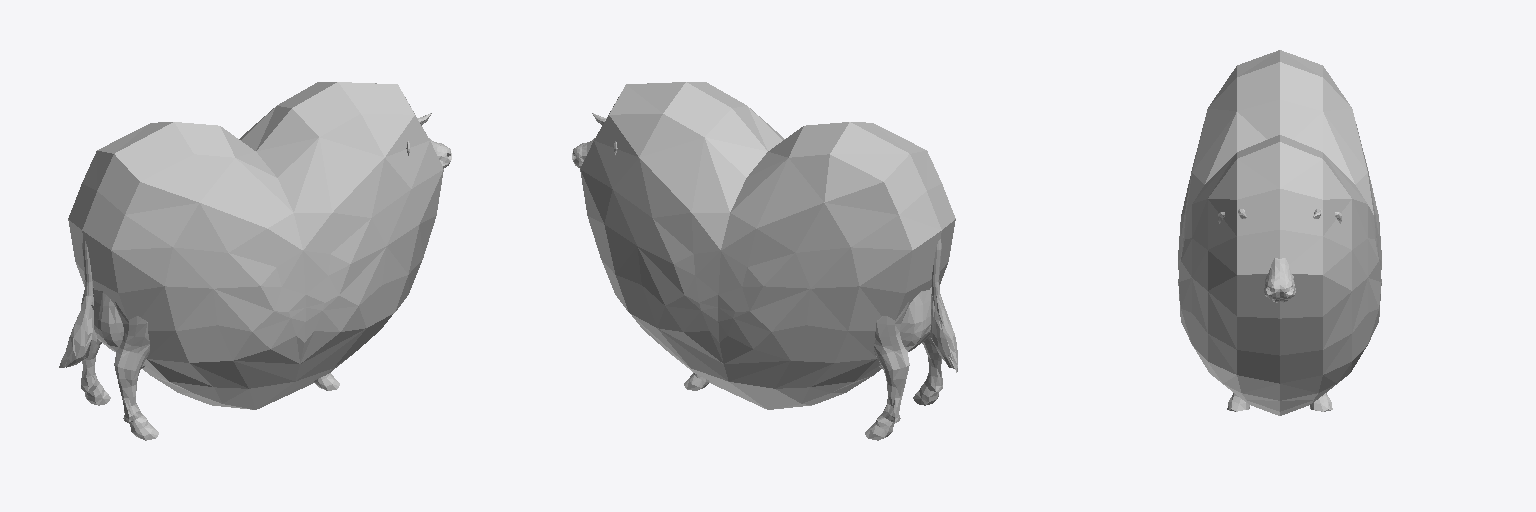
3 views of the same model, side by side, from view 1: azimuth 30°, elevation 25°; view 2: azimuth 150°, elevation 25°; view 3: azimuth 270°, elevation 25° (orthographic).
Parts seen in each view (by area): view 1: Cube_Cube.001, cow, cow0.001; view 2: Cube_Cube.001, cow0.001, cow; view 3: Cube_Cube.001, cow, cow0.001.
Boxes of the visible parts, <box> form: Cube_Cube.001: <box>68,82,443,409</box>; cow: <box>59,113,450,438</box>; cow0.001: <box>63,113,451,440</box>; Cube_Cube.001: <box>580,82,955,409</box>; cow0.001: <box>572,113,957,438</box>; cow: <box>573,113,957,440</box>; Cube_Cube.001: <box>1178,50,1381,415</box>; cow: <box>1218,209,1341,411</box>; cow0.001: <box>1219,209,1340,411</box>.
Size of the model in its own units: 5 by 3.81 by 2.28.